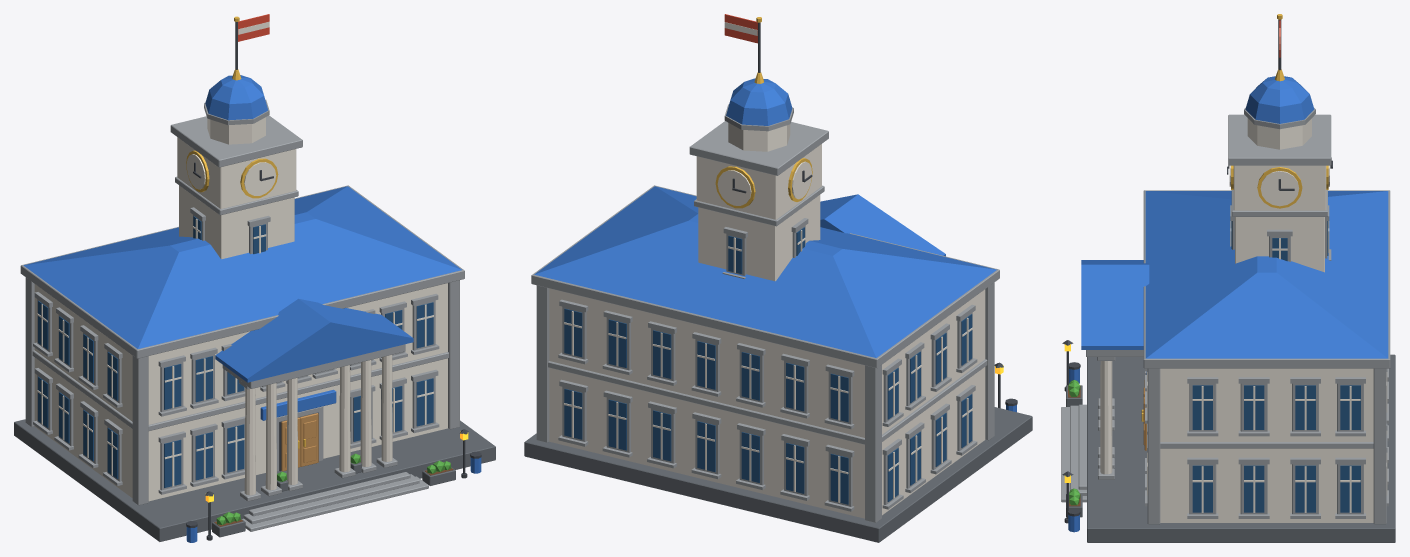
The model's file is civic-town-hall.glb.
3 views of the same model, side by side, from view 1: azimuth 30°, elevation 25°; view 2: azimuth 150°, elevation 25°; view 3: azimuth 270°, elevation 25° (orthographic). The views are drawn at different scales.
Visible parts, largest first — view 1: Roof, Body, Plinth, PedimentRoof, Cornice, TowerBase, ClockStage, TowerCornice, Quoin_-1-1, FloorBand, Dome, Quoin_1-1 (+24 smaller); view 2: Roof, Body, Plinth, Cornice, TowerBase, ClockStage, TowerCornice, PedimentRoof, FloorBand, Quoin_-11, Dome, Quoin_11 (+18 smaller); view 3: Roof, Body, Plinth, PedimentRoof, Cornice, TowerBase, TowerCornice, ClockStage, Dome, Quoin_11, Quoin_1-1, FloorBand (+26 smaller).
Part boxes in pixels (<box>): Roof: <box>23,186,461,348</box>; Body: <box>34,283,447,501</box>; Plinth: <box>14,419,495,541</box>; PedimentRoof: <box>215,298,413,382</box>; Cornice: <box>20,185,464,358</box>; TowerBase: <box>179,185,294,259</box>; ClockStage: <box>177,137,296,208</box>; TowerCornice: <box>170,115,302,167</box>; Quoin_-1-1: <box>132,356,148,505</box>; FloorBand: <box>32,350,448,430</box>; Dome: <box>205,75,268,120</box>; Quoin_1-1: <box>448,280,459,429</box>; Roof: <box>534,186,996,357</box>; Body: <box>549,288,985,518</box>; Plinth: <box>524,407,1032,542</box>; Cornice: <box>531,185,999,368</box>; TowerBase: <box>698,195,820,281</box>; ClockStage: <box>696,144,821,219</box>; TowerCornice: <box>689,121,828,175</box>; PedimentRoof: <box>820,194,945,256</box>; FloorBand: <box>548,359,987,444</box>; Quoin_-11: <box>865,365,881,522</box>; Dome: <box>726,78,792,125</box>; Quoin_11: <box>536,285,549,442</box>; Roof: <box>1145,191,1388,358</box>; Body: <box>1160,368,1373,522</box>; Plinth: <box>1087,354,1395,542</box>; PedimentRoof: <box>1081,260,1149,349</box>; Cornice: <box>1143,190,1390,368</box>; TowerBase: <box>1235,217,1324,272</box>; TowerCornice: <box>1228,114,1331,165</box>; ClockStage: <box>1233,165,1326,210</box>; Dome: <box>1245,76,1314,123</box>; Quoin_11: <box>1373,368,1386,524</box>; Quoin_1-1: <box>1147,368,1160,524</box>; FloorBand: <box>1160,442,1373,448</box>.
Size of the model in its own units: 64 by 75.8 by 52.
